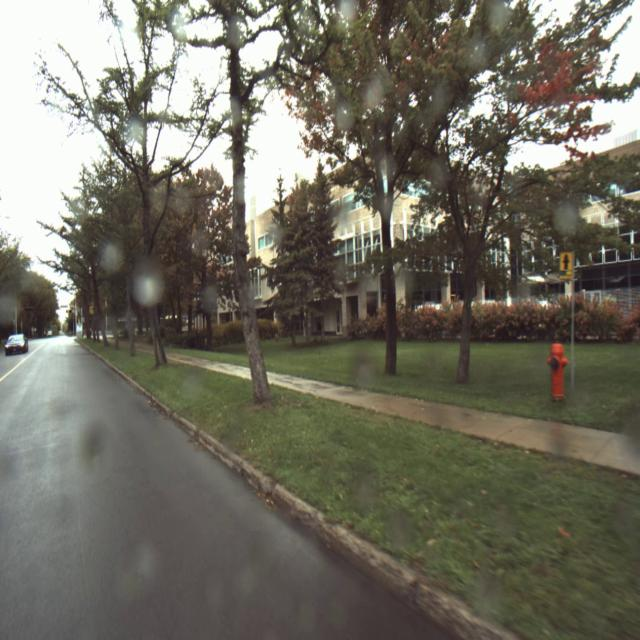car: (6, 331, 28, 355)
